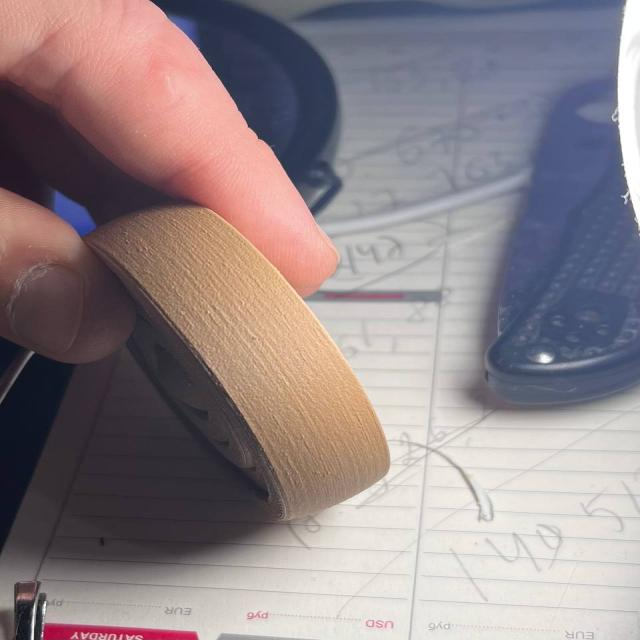Without deffect: (72, 171, 404, 539)
